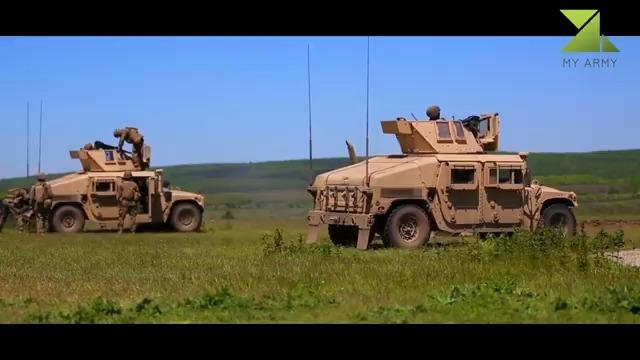MIL_HMMWV: (306, 152, 580, 249), (32, 168, 206, 236), (115, 169, 142, 237), (1, 185, 32, 237), (30, 171, 55, 235), (115, 125, 145, 174)
